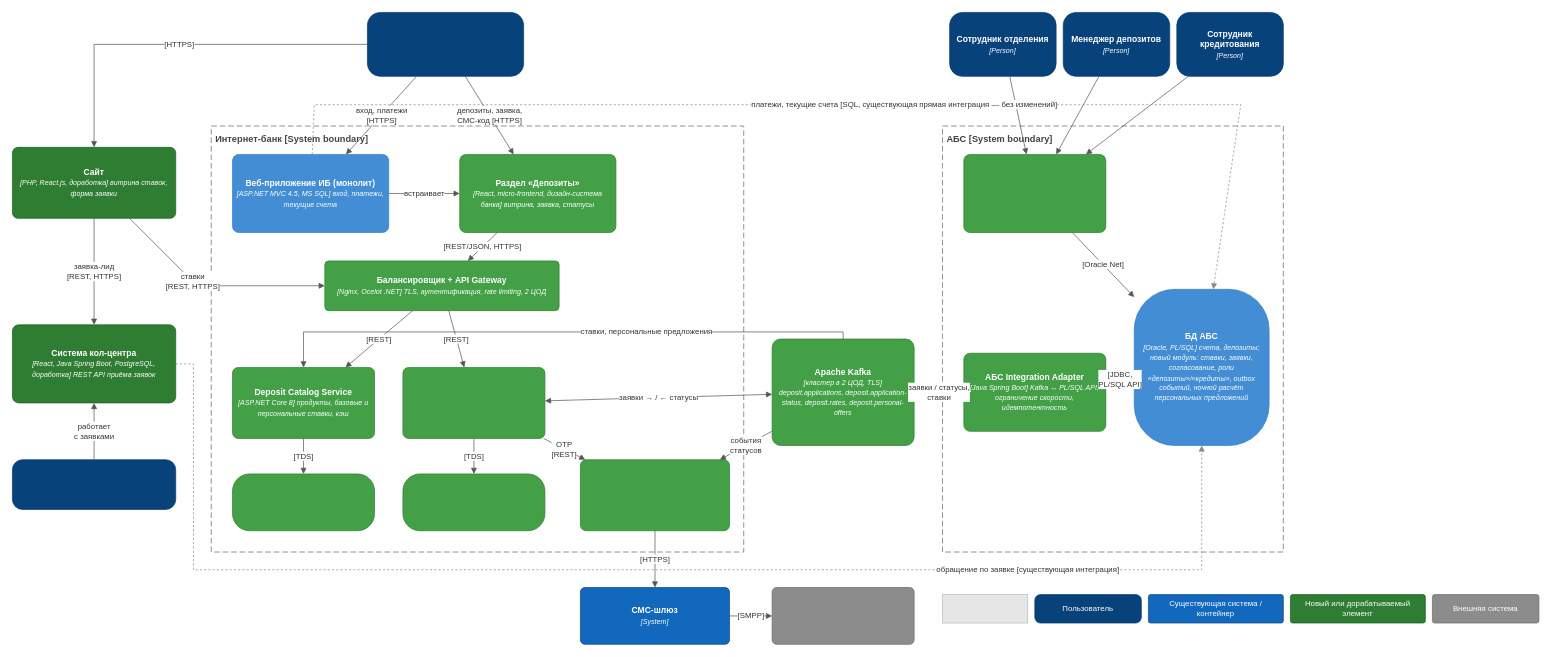
Some shapes in this 1551 by 657 pixel diagram are drawn without their labels. The shapes that lost their labels are listed below. From the top down, each one's centre as x and y in pixels, then its label:
the point at 445,44: Клиент [Person]
the point at 1034,193: Клиент АБС [Delphi, доработка] экраны ставок, заявок, согласования спецставок
the point at 473,402: Deposit Application Service [ASP.NET Core 8] приём заявок, статусы, outbox
the point at 94,484: Оператор кол-центра [Person]
the point at 303,502: Catalog DB [MS SQL, Always On] продукты, ставки, предложения
the point at 473,502: Application DB [MS SQL, Always On] заявки, статусы, outbox
the point at 655,495: Notification Service [ASP.NET Core 8] OTP-коды, СМС-уведомления по событиям
the point at 842,615: Телеком-оператор [External System]
the point at 985,608: Легенда
